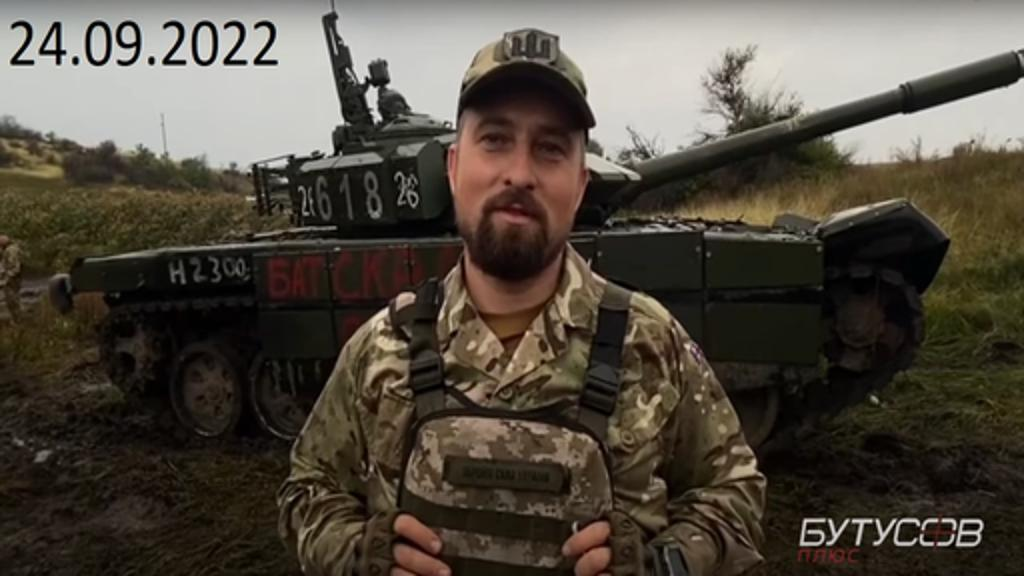TANK: (38, 38, 1006, 470)
